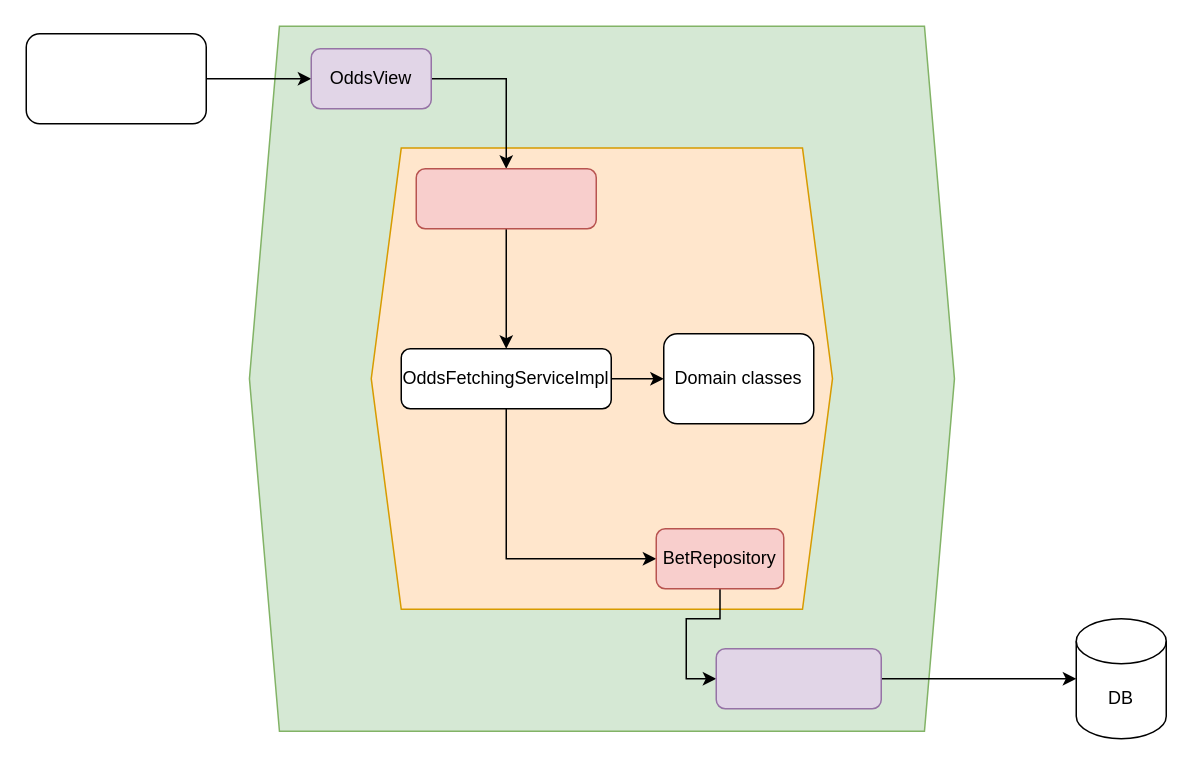
This 1193x765 diagram has some shape labels left out. Each missing label, with the centre of its shape:
BetRepositoryImpl: pixel 798 678
HTTP: pixel 115 78
OddsFetchingService: pixel 505 198
